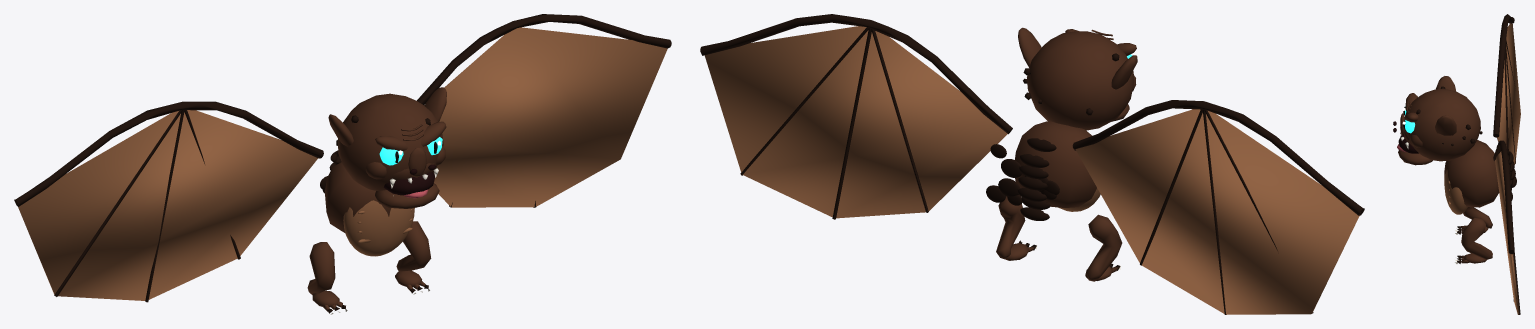
The model's file is flyver_2.glb.
The picture shows the model from 3 angles, left to right: view 1: azimuth 30°, elevation 25°; view 2: azimuth 150°, elevation 25°; view 3: azimuth 270°, elevation 25°; orthographic projection. The views are drawn at different scales.
Visible parts, largest first — view 1: vingeH_net, vingeV_net, hoved_net, krop_net, benH_net, benV_net; view 2: vingeV_net, vingeH_net, hoved_net, krop_net, benH_net, benV_net; view 3: hoved_net, krop_net, vingeH_net, vingeV_net, benV_net, benH_net.
Part boxes in pixels (x1,y1,x2,y2): vingeH_net: [14, 101, 323, 302]; vingeV_net: [417, 14, 671, 207]; hoved_net: [328, 87, 446, 208]; krop_net: [320, 150, 414, 256]; benH_net: [307, 242, 347, 314]; benV_net: [395, 221, 431, 294]; vingeV_net: [700, 14, 1012, 219]; vingeH_net: [1072, 100, 1364, 314]; hoved_net: [1018, 27, 1137, 130]; krop_net: [986, 121, 1100, 220]; benH_net: [1085, 214, 1122, 281]; benV_net: [996, 196, 1037, 260]; hoved_net: [1393, 76, 1482, 165]; krop_net: [1444, 140, 1516, 214]; vingeH_net: [1493, 14, 1520, 164]; vingeV_net: [1493, 140, 1520, 314]; benV_net: [1455, 217, 1492, 263]; benH_net: [1455, 207, 1492, 234].
Size of the model in its own units: 2.85 by 0.9109 by 0.662.
